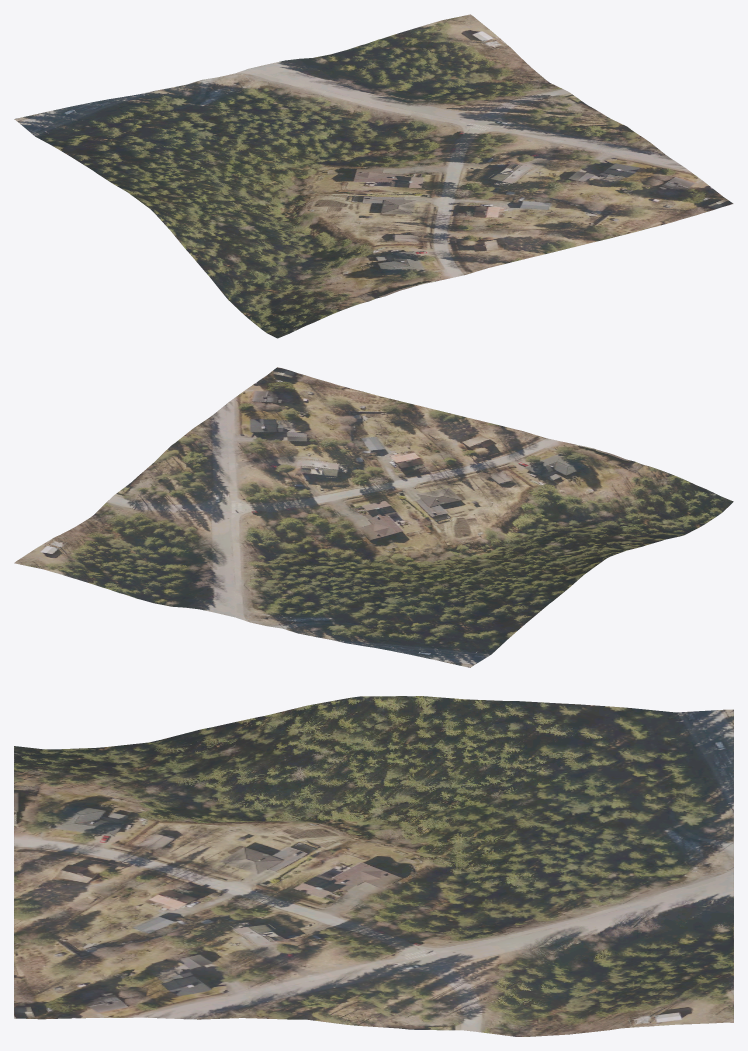
File: CM_Terrain_24491073_6821636.fbx
3 renders of one model, top to bottom at view 1: azimuth 30°, elevation 25°; view 2: azimuth 150°, elevation 25°; view 3: azimuth 270°, elevation 25°, orthographic. The views are drawn at different scales.
Parts seen in each view (by area): view 1: CM_Terrain_24491073_6821636_LOD0; view 2: CM_Terrain_24491073_6821636_LOD0; view 3: CM_Terrain_24491073_6821636_LOD0.
Part boxes in pixels (bbox=[...]): CM_Terrain_24491073_6821636_LOD0: bbox=[14, 14, 733, 338]; CM_Terrain_24491073_6821636_LOD0: bbox=[14, 367, 733, 667]; CM_Terrain_24491073_6821636_LOD0: bbox=[14, 696, 733, 1036].
Size of what is drawn, in the model's own units: 205 by 16.74 by 205.
